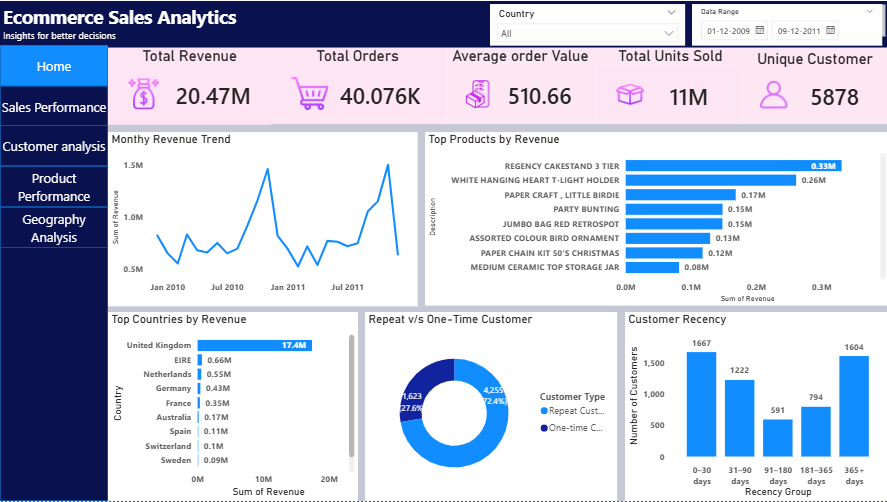

The page's visual inventory and layout, read from the dashboard file:
{"tool":"powerbi","page":{"name":"Home","canvas":[1280,720],"ordinal":0},"visuals":[{"type":"cardVisual","title":"Total Revenue","fields":{"Data":["Sum(ecommerce_sales_cleaned.Revenue)"]},"box":[155.9,66.6,235.3,112],"z":0},{"type":"cardVisual","title":"Total Orders","fields":{"Data":["Count(ecommerce_sales_cleaned.Invoice)"]},"box":[389.8,66.6,249.4,110.6],"z":1000},{"type":"cardVisual","title":"Total Units Sold","fields":{"Data":["Sum(ecommerce_sales_cleaned.Quantity)"]},"box":[857.5,66.6,216.9,110.6],"z":2000},{"type":"cardVisual","title":"Average order Value","fields":{"Data":["ecommerce_sales_cleaned.average_order_value"]},"box":[639.2,66.6,219.7,110.6],"z":3000},{"type":"cardVisual","title":"Unique Customer","fields":{"Data":["ecommerce_sales_cleaned.Unique Customers"]},"box":[1063,66.6,216.9,110.6],"z":4000},{"type":"lineChart","title":"Monthy Revenue Trend","fields":{"Y":["Sum(ecommerce_sales_cleaned.Revenue)"],"Category":["ecommerce_sales_cleaned.Month"]},"box":[155.9,188.5,446.5,250.9],"z":5000},{"type":"clusteredBarChart","title":"Top Countries by Revenue","fields":{"Category":["ecommerce_sales_cleaned.Country"],"Y":["Sum(ecommerce_sales_cleaned.Revenue)"]},"box":[155.9,447.9,360,272.1],"z":6000},{"type":"clusteredBarChart","title":"Top Products by Revenue","fields":{"Y":["Sum(ecommerce_sales_cleaned.Revenue)"],"Category":["ecommerce_sales_cleaned.Description"]},"box":[611.4,188.1,668.6,250.3],"z":7000},{"type":"donutChart","title":"Repeat v/s One-Time Customer ","fields":{"Category":["Customer Summary.Customer Type"],"Y":["CountNonNull(Customer Summary.Customer ID)"]},"box":[525.8,448.5,362.8,272.1],"z":8000},{"type":"clusteredColumnChart","title":"Customer Recency ","fields":{"Y":["CountNonNull(Customer Summary.Customer ID)"],"Category":["Customer Summary.Recency Group"]},"box":[900.4,448.5,379.6,272.1],"z":9000},{"type":"textbox","box":[0,0,1279.8,66.6],"z":10000},{"type":"slicer","fields":{"Values":["ecommerce_sales_cleaned.Country"]},"box":[705.8,4.3,280.6,59.5],"z":11000},{"type":"slicer","title":"Data Range","fields":{"Values":["ecommerce_sales_cleaned.InvoiceDate"]},"box":[996.4,4.3,273.5,59.5],"z":12000},{"type":"shape","box":[0,63.4,155.5,656.6],"z":13000},{"type":"shape","box":[0,63.4,155.5,59],"z":14000},{"type":"shape","box":[0,122.4,155.5,59],"z":15000},{"type":"shape","box":[0,178.6,155.5,59],"z":16000},{"type":"shape","box":[0,237.6,155.5,59],"z":17000},{"type":"shape","box":[0,296.6,155.5,59],"z":18000}]}

Visuals, with their boxes in screenshot pixels (x1, y1, x2, y2), scaled from the page's 1280x720 canvas onto the 887x502 screenshot:
"Total Revenue" cardVisual: 108, 46, 271, 125
"Total Orders" cardVisual: 270, 46, 443, 124
"Total Units Sold" cardVisual: 594, 46, 745, 124
"Average order Value" cardVisual: 443, 46, 595, 124
"Unique Customer" cardVisual: 737, 46, 886, 124
"Monthy Revenue Trend" lineChart: 108, 131, 417, 306
"Top Countries by Revenue" clusteredBarChart: 108, 312, 358, 501
"Top Products by Revenue" clusteredBarChart: 424, 131, 886, 306
"Repeat v/s One-Time Customer " donutChart: 364, 313, 616, 501
"Customer Recency " clusteredColumnChart: 624, 313, 886, 501
textbox: 0, 0, 886, 46
slicer - ecommerce_sales_cleaned.Country: 489, 3, 684, 44
"Data Range" slicer: 690, 3, 880, 44
shape: 0, 44, 108, 501
shape: 0, 44, 108, 85
shape: 0, 85, 108, 126
shape: 0, 125, 108, 166
shape: 0, 166, 108, 207
shape: 0, 207, 108, 248
